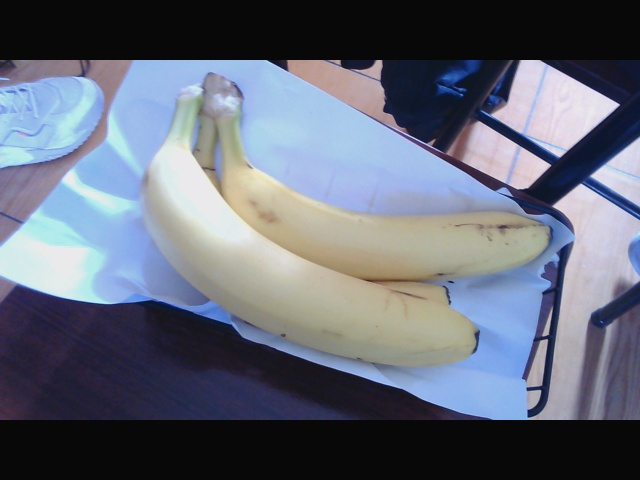banana: (142, 108, 550, 363)
